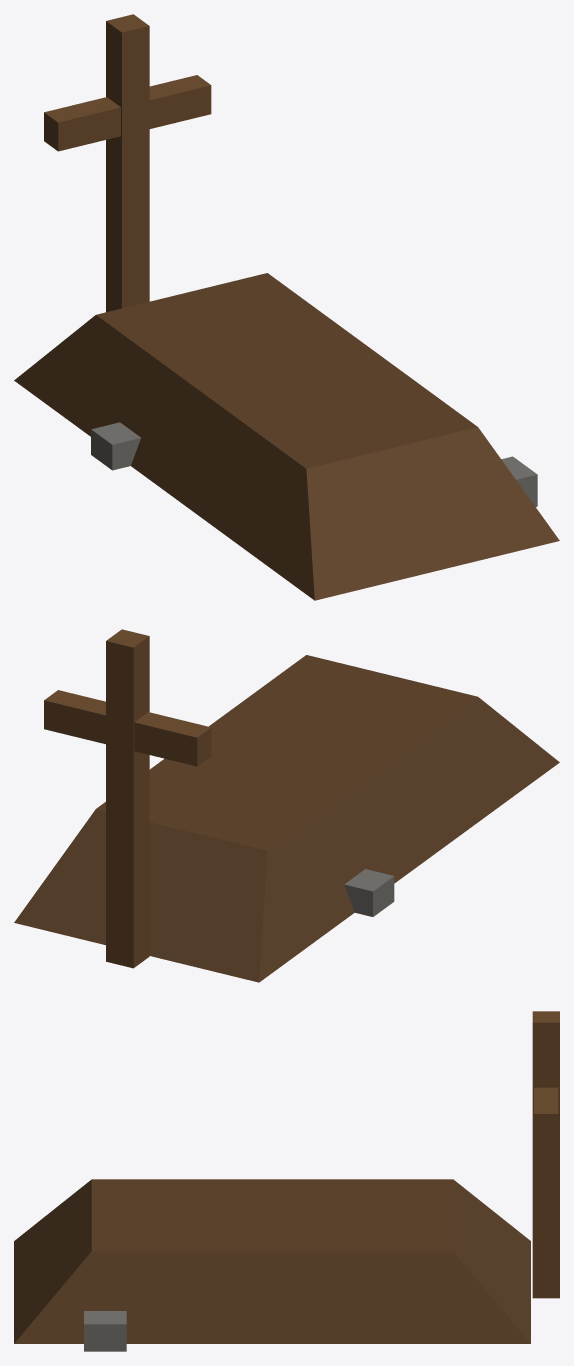
Rendered from grave.glb.
3 renders of one model, top to bottom at view 1: azimuth 30°, elevation 25°; view 2: azimuth 150°, elevation 25°; view 3: azimuth 270°, elevation 25°, orthographic. The views are drawn at different scales.
Parts seen in each view (by area): view 1: grave; view 2: grave; view 3: grave.
Part boxes in pixels (<box>): grave: <box>14,14,559,600</box>; grave: <box>14,629,559,982</box>; grave: <box>14,1011,559,1351</box>.
Bounding box in the file's own units: 0.92 × 1 × 1.8.
